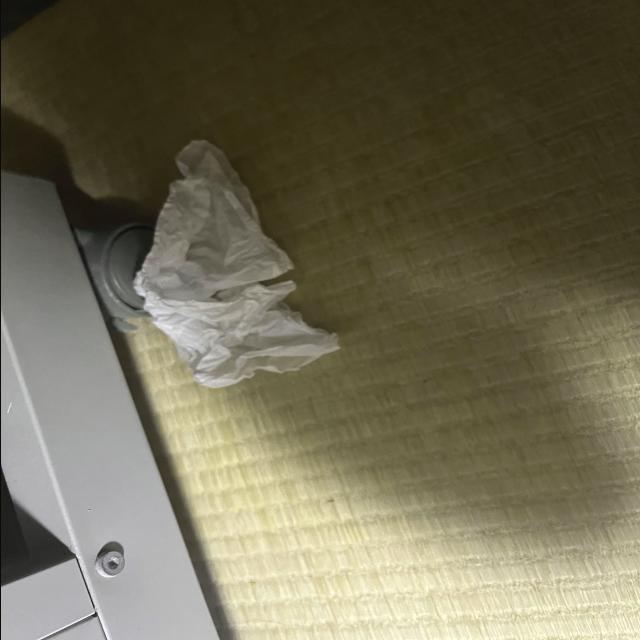Paper: (126, 143, 348, 398)
